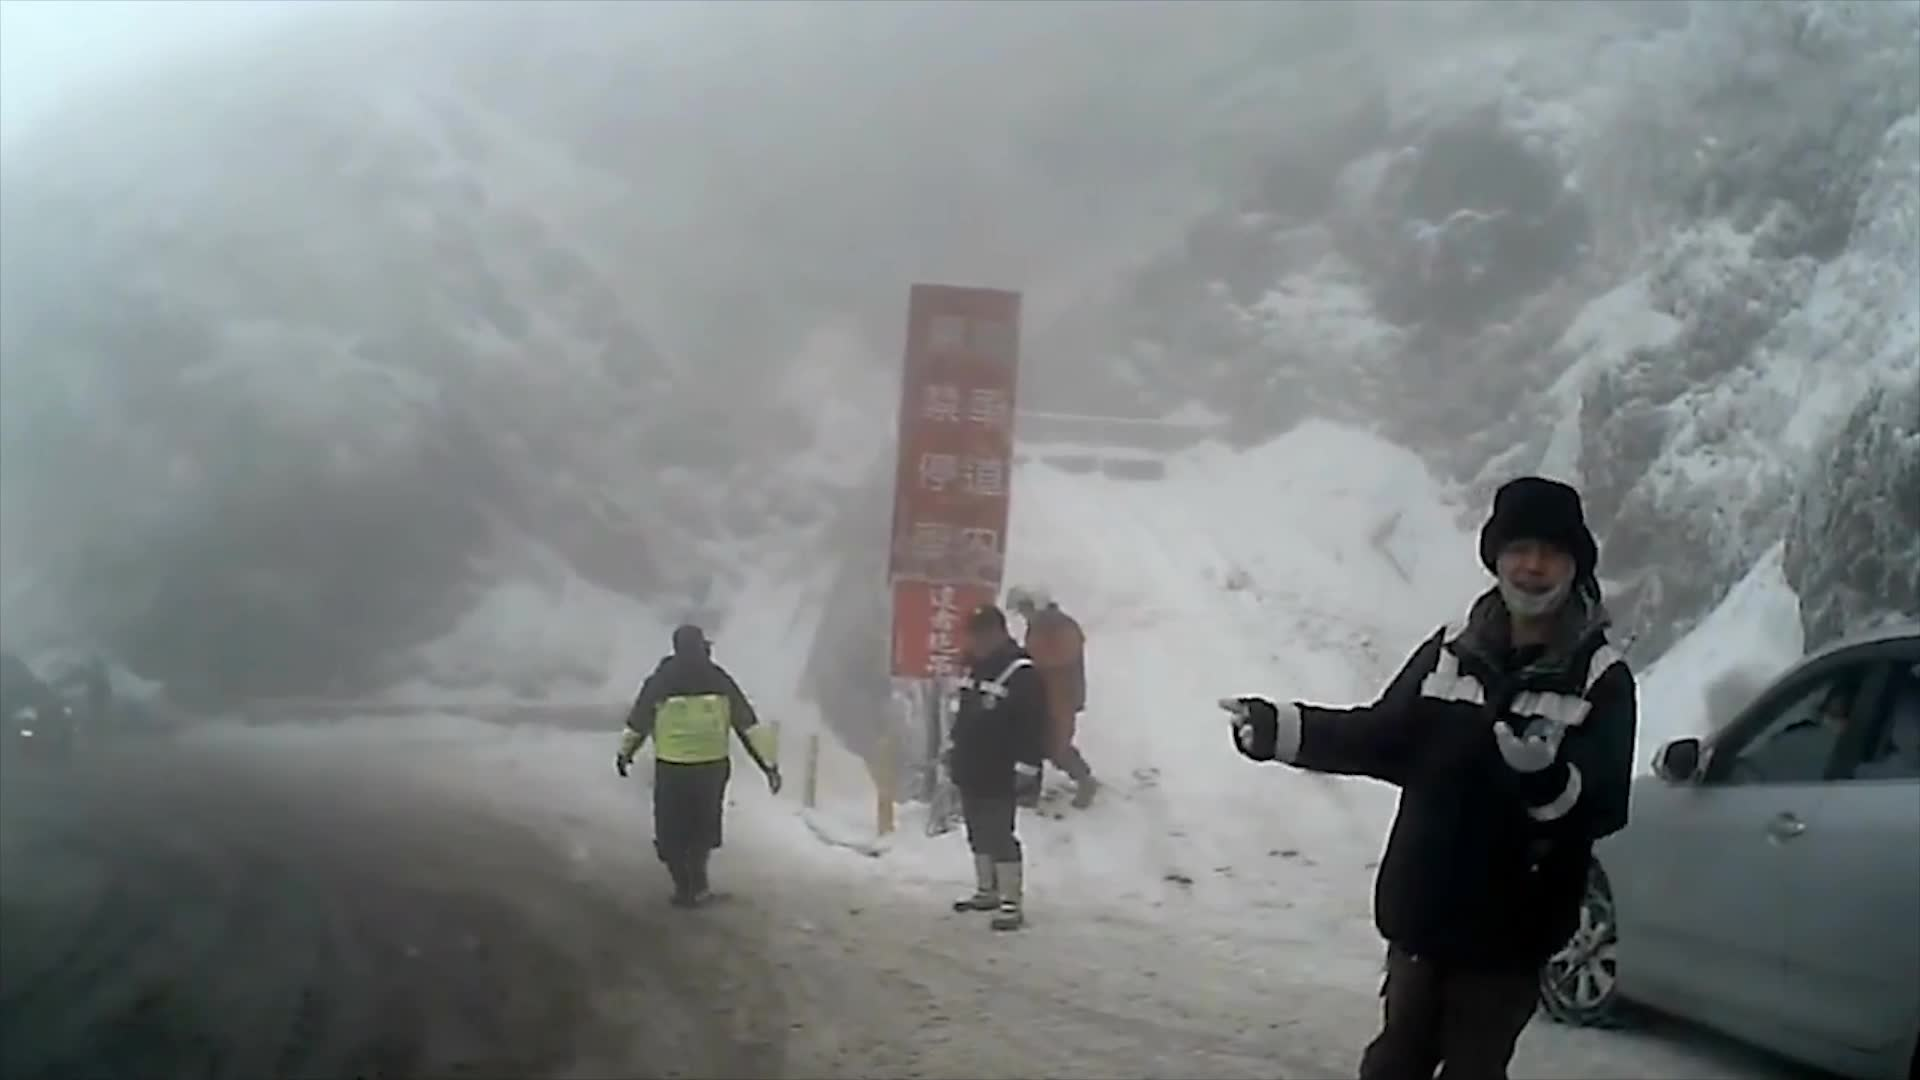pedestrian: (1212, 476, 1639, 1078), (617, 631, 777, 905), (948, 604, 1055, 931), (1010, 575, 1104, 814)
vehicle: (1496, 630, 1918, 1079)
